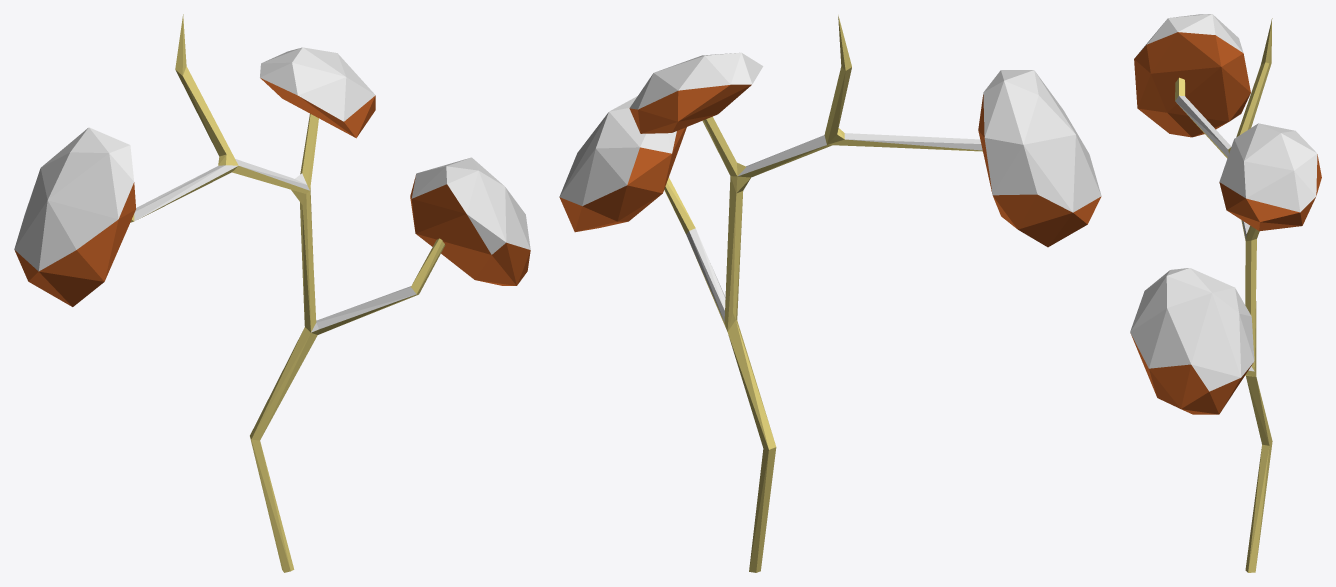
The model's file is Tree_1_Winter.fbx.
The picture shows the model from 3 angles, left to right: view 1: azimuth 30°, elevation 25°; view 2: azimuth 150°, elevation 25°; view 3: azimuth 270°, elevation 25°; orthographic projection. The views are drawn at different scales.
Parts seen in each view (by area): view 1: Tree_1_Winter; view 2: Tree_1_Winter; view 3: Tree_1_Winter.
Part boxes in pixels (<box>): Tree_1_Winter: <box>14,14,530,572</box>; Tree_1_Winter: <box>559,15,1101,572</box>; Tree_1_Winter: <box>1130,14,1321,572</box>.
Bounding box in the file's own units: 538 × 586 × 199.
